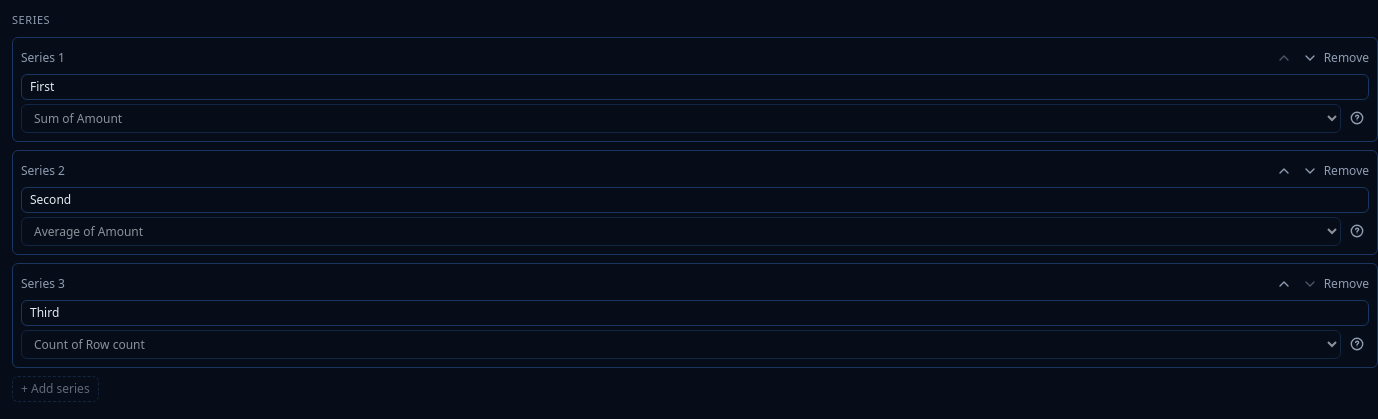
Test case: MeasuresEditor reorder (TBD-431) › fence reorder-focus-follows-moved-item: move idx 2 -> 1 of 3
Click the button with test id "measure-move-up-2": coordinates (1284, 284) [1272,272,1296,296]
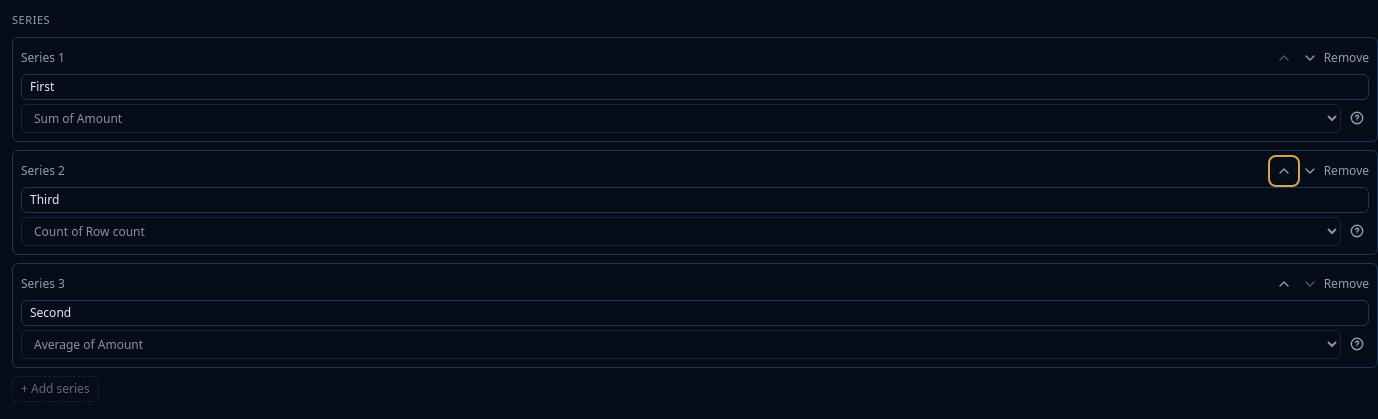
Expected: the field named "Series 2 label" holds "Third", [21,186,1369,212]
